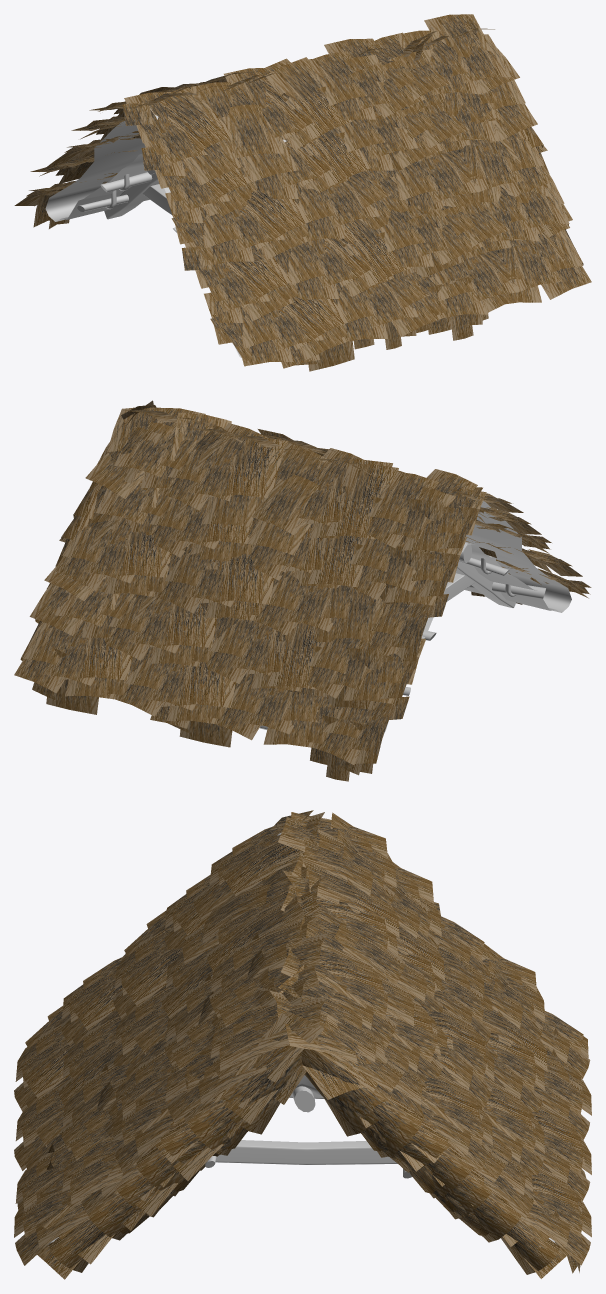
The model's file is SM_roofEnd6m_a1.fbx.
3 renders of one model, top to bottom at view 1: azimuth 30°, elevation 25°; view 2: azimuth 150°, elevation 25°; view 3: azimuth 270°, elevation 25°, orthographic. The views are drawn at different scales.
Parts seen in each view (by area): view 1: SM_roofEnd6m_a1_LOD0; view 2: SM_roofEnd6m_a1_LOD0; view 3: SM_roofEnd6m_a1_LOD0.
Part boxes in pixels (bbox=[...]): SM_roofEnd6m_a1_LOD0: bbox=[14, 14, 591, 371]; SM_roofEnd6m_a1_LOD0: bbox=[14, 400, 591, 781]; SM_roofEnd6m_a1_LOD0: bbox=[14, 810, 591, 1279].
Size of the model in its own units: 742 by 765 by 402.
4 materials, 1 textured.
